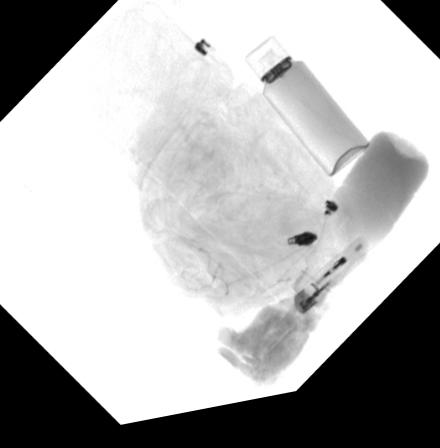Lighter: (294, 249, 366, 328)
Sprayer: (243, 46, 370, 191)
